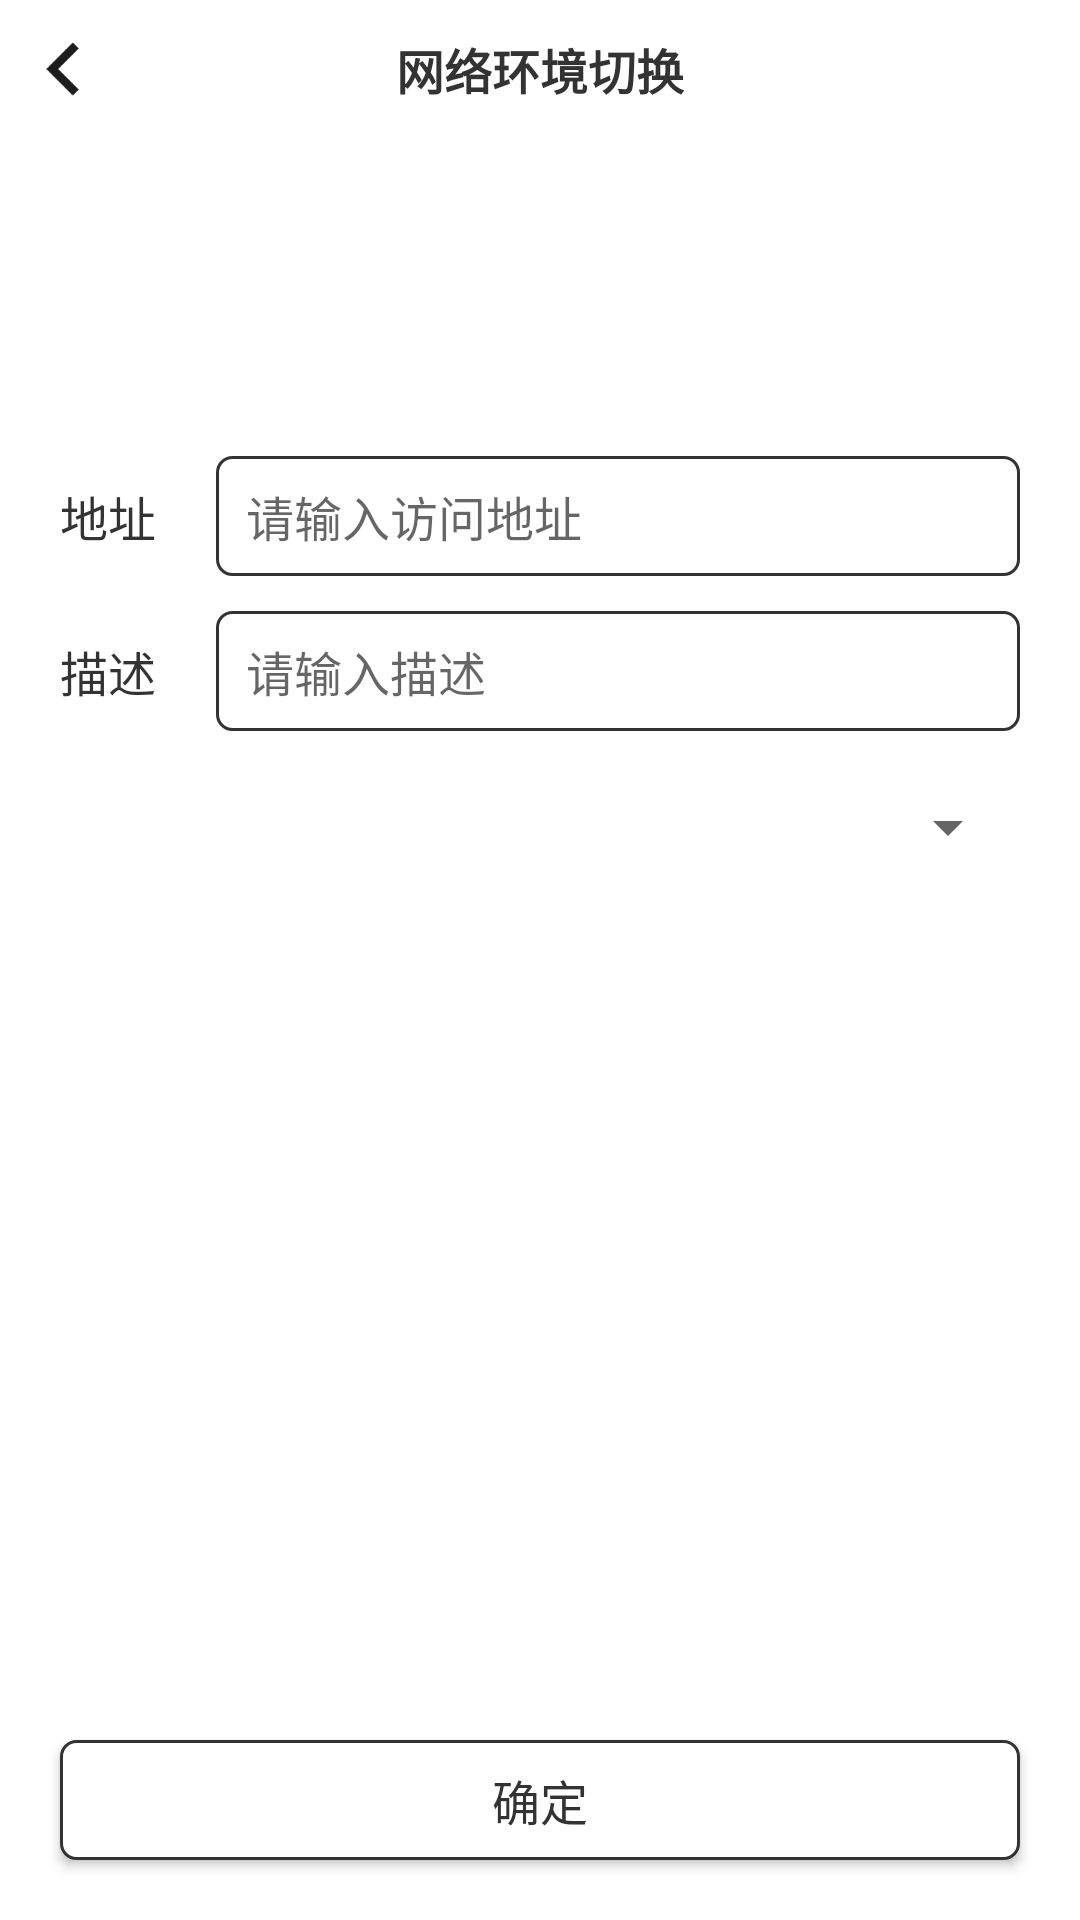

Where icons sit on this 1080px×1920px app screen, as box(x1, y1, x2, y2):
back: box(46, 42, 79, 96)
